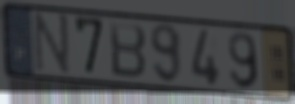4: (189, 27, 221, 89)
7: (73, 15, 105, 79)
9: (149, 21, 184, 86), (226, 30, 260, 91)
B: (108, 19, 148, 82)
N: (33, 10, 71, 79)
